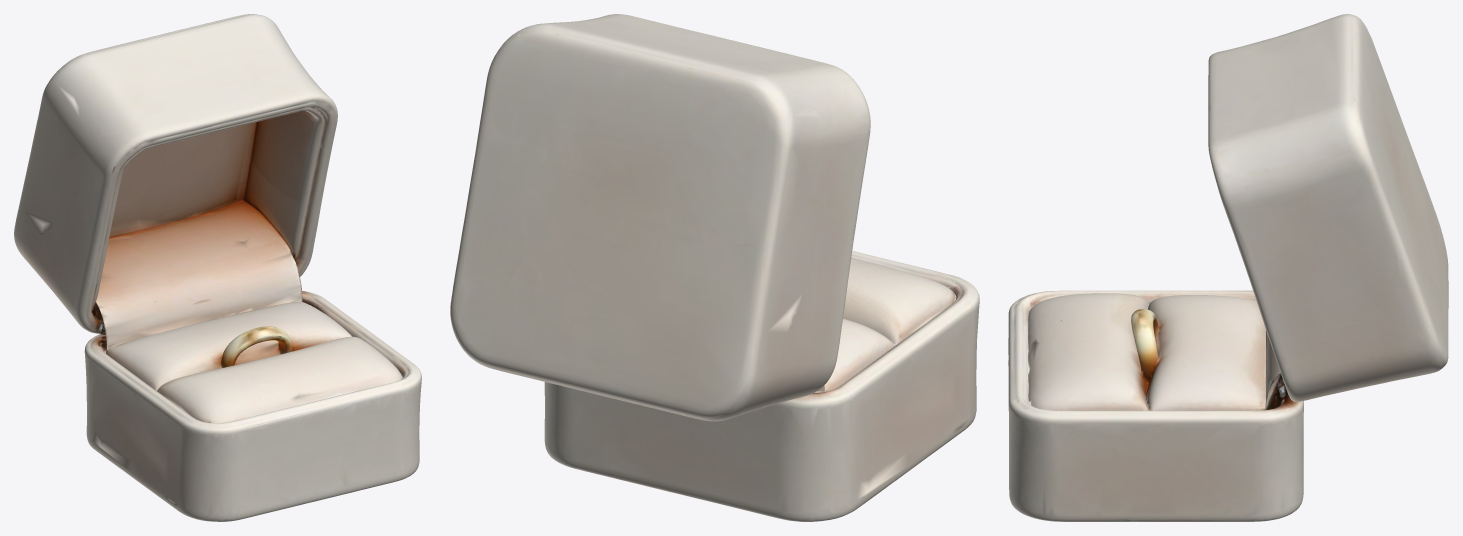
The model's file is ringbox.glb.
3 views of the same model, side by side, from view 1: azimuth 30°, elevation 25°; view 2: azimuth 150°, elevation 25°; view 3: azimuth 270°, elevation 25° (orthographic). The views are drawn at different scales.
Parts seen in each view (by area): view 1: node_0; view 2: node_0; view 3: node_0.
Part boxes in pixels (x1,y1,x2,y2): node_0: (14,14,421,521); node_0: (450,14,979,521); node_0: (1008,14,1448,521).
Bounding box in the file's own units: 0.5573 × 0.8065 × 0.8056.
Materials: 1 (1 with a texture image).
